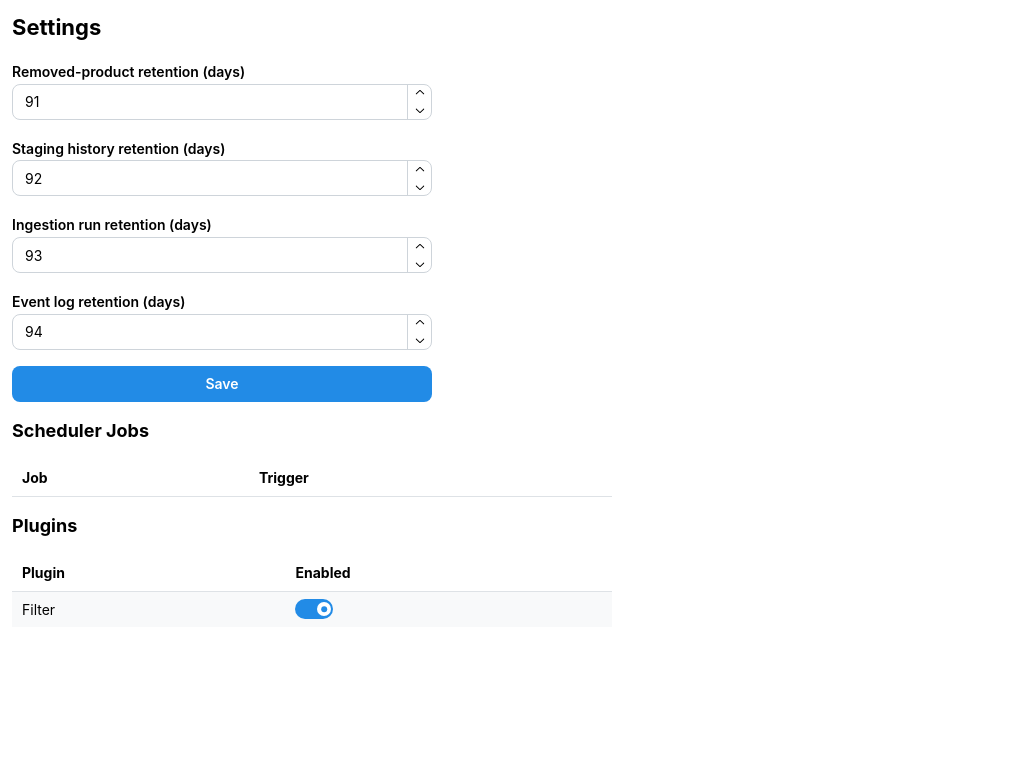
Test: AdminSettingsPage › toasts disableBlocked with the cached count when toggling an in-use plugin fails with 409
Step 1. Click the switch → (314, 609), box [296,599,334,619]
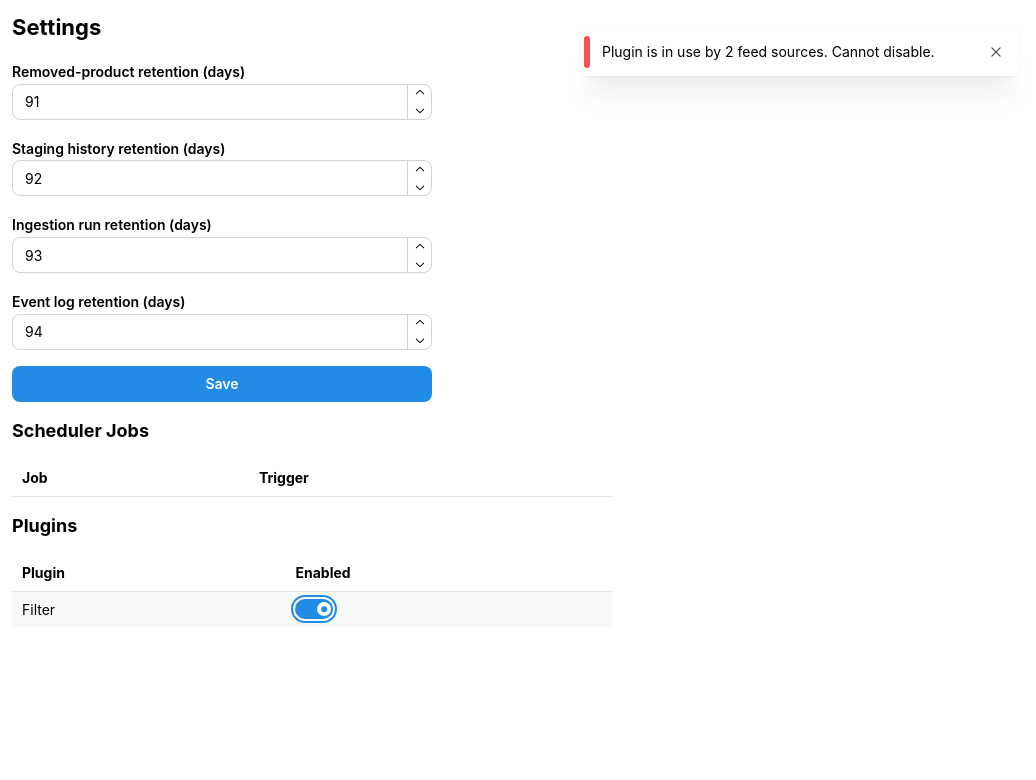
Expected: the text "Plugin is in use by 2 feed sources. Cannot disable." is shown, [602,42,972,62]
